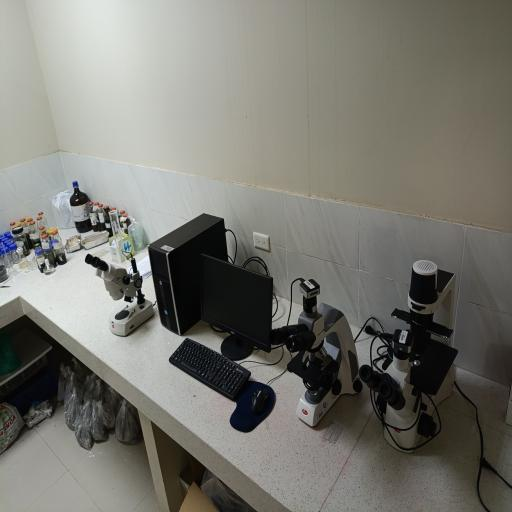Microscopio_camara: (345, 254, 482, 460), (256, 268, 361, 448)
